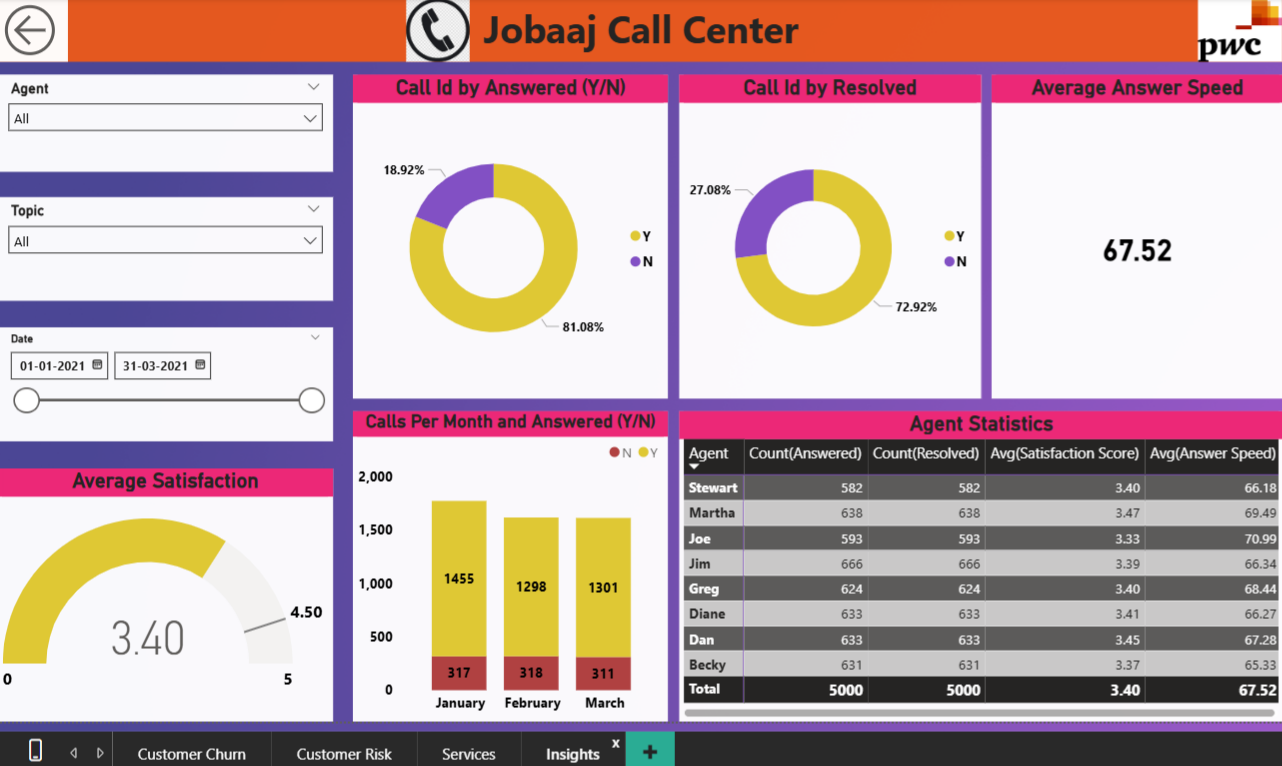

What the dashboard file says about the page in this screenshot:
{"tool":"powerbi","page":{"name":"Insights","canvas":[1280,720],"ordinal":3},"visuals":[{"type":"textbox","box":[0,0,1280,63.4],"z":0},{"type":"image","box":[1193,0,87.1,63.4],"z":1000},{"type":"actionButton","box":[0,0,69.7,63.4],"z":2000},{"type":"image","box":[405.5,0,64.7,63.4],"z":3000},{"type":"slicer","fields":{"Values":["Call-Center-Dataset.Agent"]},"box":[0,75.9,333.4,97],"z":6001},{"type":"slicer","fields":{"Values":["Call-Center-Dataset.Topic"]},"box":[0,197.8,333.4,103.2],"z":6002},{"type":"slicer","fields":{"Values":["Call-Center-Dataset.Date"]},"box":[0,327.2,333.4,113.2],"z":6003},{"type":"donutChart","title":"Call Id by Answered (Y/N)","fields":{"Category":["Call-Center-Dataset.Answered (Y/N)"],"Y":["CountNonNull(Call-Center-Dataset.Call Id)"]},"box":[353.3,75.9,313.5,322.2],"z":6004},{"type":"donutChart","title":"Call Id by Resolved","fields":{"Category":["Call-Center-Dataset.Resolved"],"Y":["CountNonNull(Call-Center-Dataset.Call Id)"]},"box":[678,75.9,301,322.2],"z":6005},{"type":"card","title":"Average Answer Speed","fields":{"Values":["Avg(Call-Center-Dataset.Speed of answer in seconds)"]},"box":[988.9,75.9,291.1,322.2],"z":6006},{"type":"columnChart","title":"Calls Per Month and Answered (Y/N)","fields":{"Y":["CountNonNull(Call-Center-Dataset.Call Id)"],"Category":["Call-Center-Dataset.Date.Variation.Date Hierarchy.Month"],"Series":["Call-Center-Dataset.Answered (Y/N)"]},"box":[353.3,410.5,313.5,309.7],"z":6007},{"type":"gauge","title":"Average Satisfaction ","fields":{"Y":["Avg(Call-Center-Dataset.Satisfaction rating)"],"TargetValue":["Call-Center-Dataset.Satisfaction Target"],"MinValue":["Call-Center-Dataset.Minimum Value"],"MaxValue":["Call-Center-Dataset.Maximum Value"]},"box":[0,467.7,333.4,252.5],"z":6008},{"type":"pivotTable","title":"Agent Statistics","fields":{"Rows":["Call-Center-Dataset.Agent"],"Values":["CountNonNull(Call-Center-Dataset.Answered (Y/N))","CountNonNull(Call-Center-Dataset.Resolved)","Avg(Call-Center-Dataset.Satisfaction rating)","Avg(Call-Center-Dataset.Speed of answer in seconds)"]},"box":[678,410.5,602.1,309.7],"z":6009}]}

Visuals, with their boxes on the page's 1280x720 design canvas (x1, y1, x2, y2). These are canvas units, not pixel positions in the 1282x766 screenshot, which may show the page scaled, cropped or inside an application window:
textbox: rect(0, 0, 1280, 63)
image: rect(1193, 0, 1280, 63)
actionButton: rect(0, 0, 70, 63)
image: rect(406, 0, 470, 63)
slicer - Call-Center-Dataset.Agent: rect(0, 76, 333, 173)
slicer - Call-Center-Dataset.Topic: rect(0, 198, 333, 301)
slicer - Call-Center-Dataset.Date: rect(0, 327, 333, 440)
"Call Id by Answered (Y/N)" donutChart: rect(353, 76, 667, 398)
"Call Id by Resolved" donutChart: rect(678, 76, 979, 398)
"Average Answer Speed" card: rect(989, 76, 1280, 398)
"Calls Per Month and Answered (Y/N)" columnChart: rect(353, 410, 667, 720)
"Average Satisfaction " gauge: rect(0, 468, 333, 720)
"Agent Statistics" pivotTable: rect(678, 410, 1280, 720)
